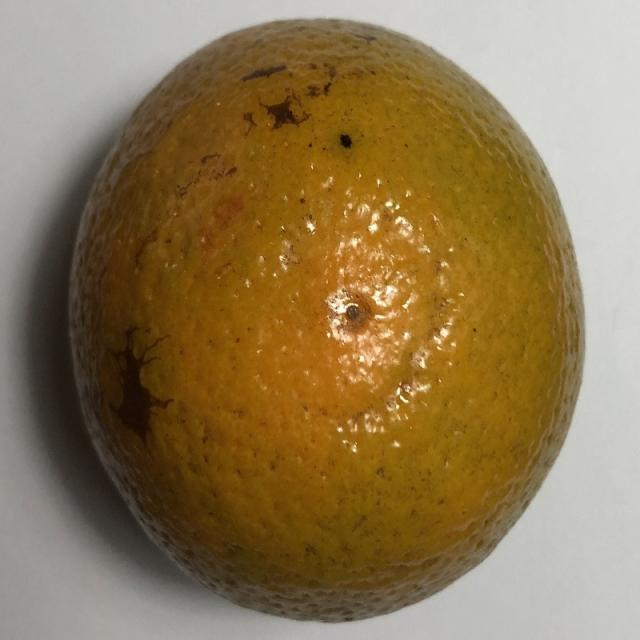blackspot: (44, 6, 614, 630)
